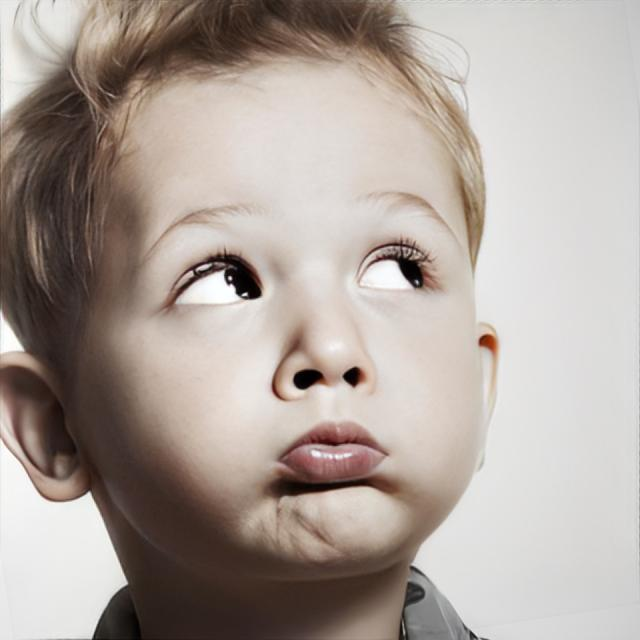surprise: (93, 54, 483, 580)
